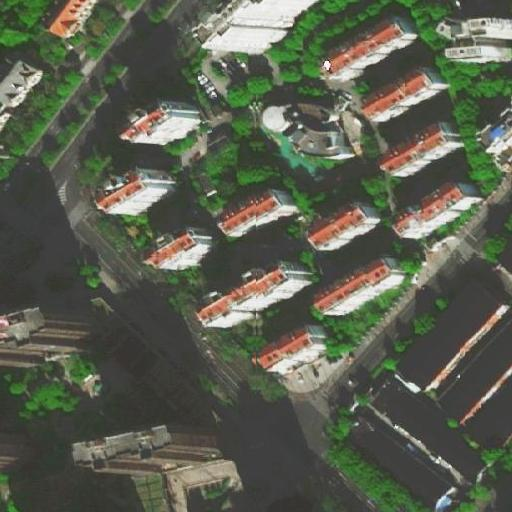building: (367, 376, 482, 485), (398, 277, 506, 393), (426, 304, 511, 436), (352, 415, 461, 512), (72, 426, 229, 481), (200, 257, 313, 327), (0, 305, 94, 365), (318, 257, 408, 318), (401, 176, 484, 241), (330, 18, 416, 79), (381, 121, 464, 178), (366, 67, 449, 124), (278, 114, 357, 167), (259, 326, 335, 378), (220, 190, 298, 238), (309, 202, 380, 252), (97, 171, 175, 216), (123, 105, 200, 149), (0, 54, 42, 132), (445, 18, 511, 65), (148, 228, 213, 275), (481, 118, 512, 169), (1, 428, 39, 469), (258, 103, 302, 132), (205, 125, 235, 153), (195, 171, 222, 200)
